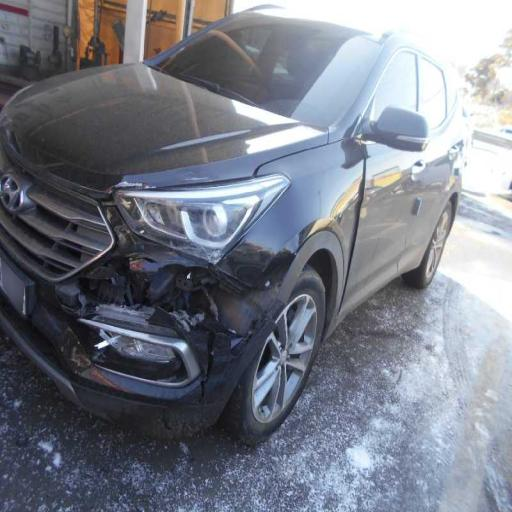dent: (70, 176, 259, 410)
